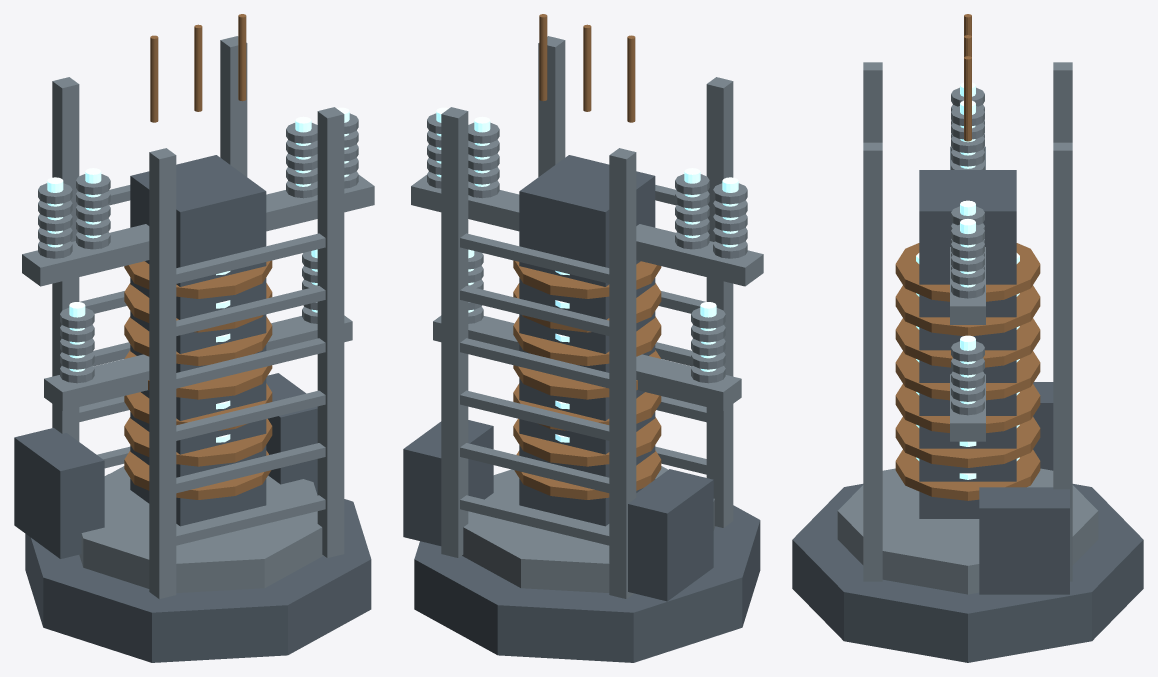
The model's file is relay_t2_d0.glb.
3 renders of one model, left to right at view 1: azimuth 30°, elevation 25°; view 2: azimuth 150°, elevation 25°; view 3: azimuth 270°, elevation 25°, orthographic. The views are drawn at different scales.
Visible parts, largest first — view 1: BASE_ARMOR_GEOMETRY, BASE_SIGNAL_GEOMETRY; view 2: BASE_ARMOR_GEOMETRY, BASE_SIGNAL_GEOMETRY; view 3: BASE_ARMOR_GEOMETRY, BASE_SIGNAL_GEOMETRY.
Boxes of the visible parts, x1,y1,x2,y2 form: BASE_ARMOR_GEOMETRY: (14, 14, 374, 662); BASE_SIGNAL_GEOMETRY: (47, 107, 349, 442); BASE_ARMOR_GEOMETRY: (403, 14, 763, 662); BASE_SIGNAL_GEOMETRY: (436, 107, 738, 442); BASE_ARMOR_GEOMETRY: (792, 14, 1143, 662); BASE_SIGNAL_GEOMETRY: (916, 82, 1019, 479).
Bounding box in the file's own units: 1.67 × 2.69 × 1.55.
